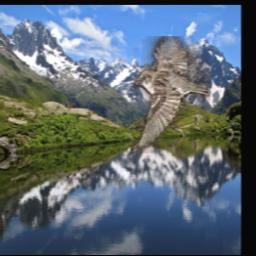Sparrow: (130, 36, 210, 153)
